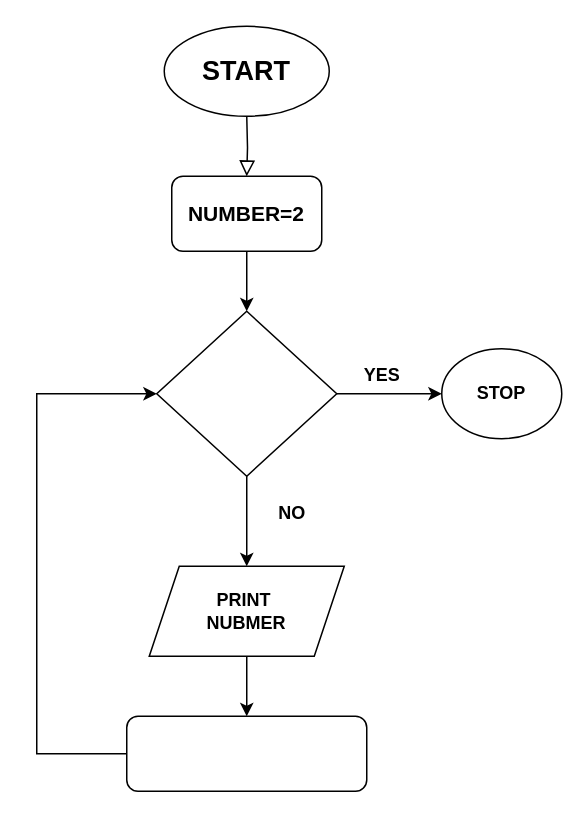
The diagram is 588 pixels wide and 818 high, and some of its shapes have lost their labels. The centre of each missing label's shape, as x and y in pixels:
"IS NUMBER > 100 ?" goes at point 246,393.
"NUMBER=NUMBER+2" goes at point 246,753.
